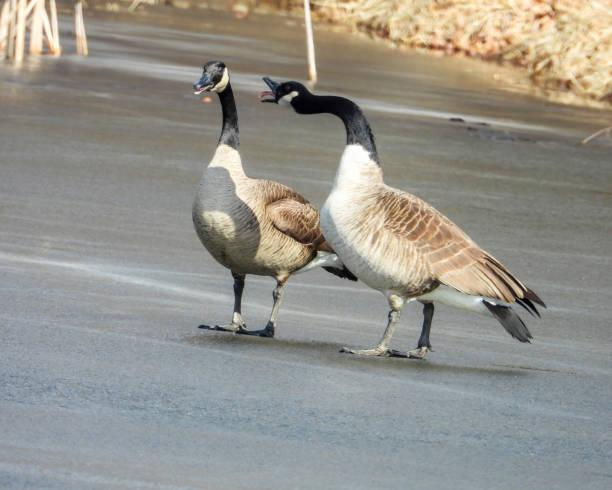Canadian-Goose: (258, 73, 546, 367), (187, 57, 319, 333)
